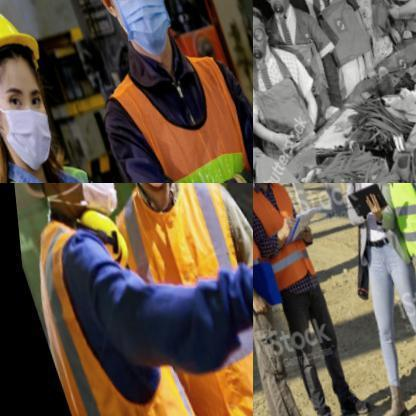vest: (13, 201, 207, 415), (105, 183, 252, 415), (253, 183, 318, 297), (370, 183, 415, 272)
